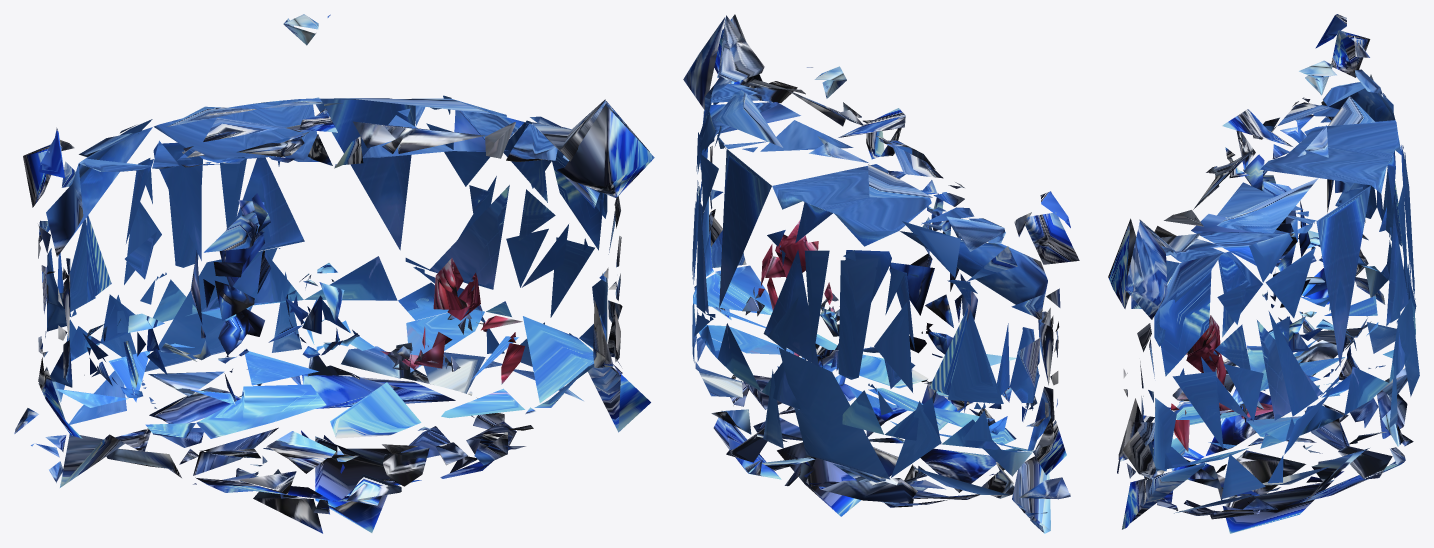
Rendered from MAH_GYM_PROJECTOR_BEACON_L2.glb.
3 renders of one model, left to right at view 1: azimuth 30°, elevation 25°; view 2: azimuth 150°, elevation 25°; view 3: azimuth 270°, elevation 25°, orthographic. The views are drawn at different scales.
Parts seen in each view (by area): view 1: MAH_GYM_PROJECTOR_BEACON_L2; view 2: MAH_GYM_PROJECTOR_BEACON_L2; view 3: MAH_GYM_PROJECTOR_BEACON_L2.
Boxes of the visible parts, bbox=[...] form: MAH_GYM_PROJECTOR_BEACON_L2: bbox=[14, 14, 654, 533]; MAH_GYM_PROJECTOR_BEACON_L2: bbox=[683, 14, 1079, 533]; MAH_GYM_PROJECTOR_BEACON_L2: bbox=[1108, 14, 1419, 533].
Size of the model in its own units: 0.9679 by 0.8669 by 0.5373.
1 material, 1 textured.
